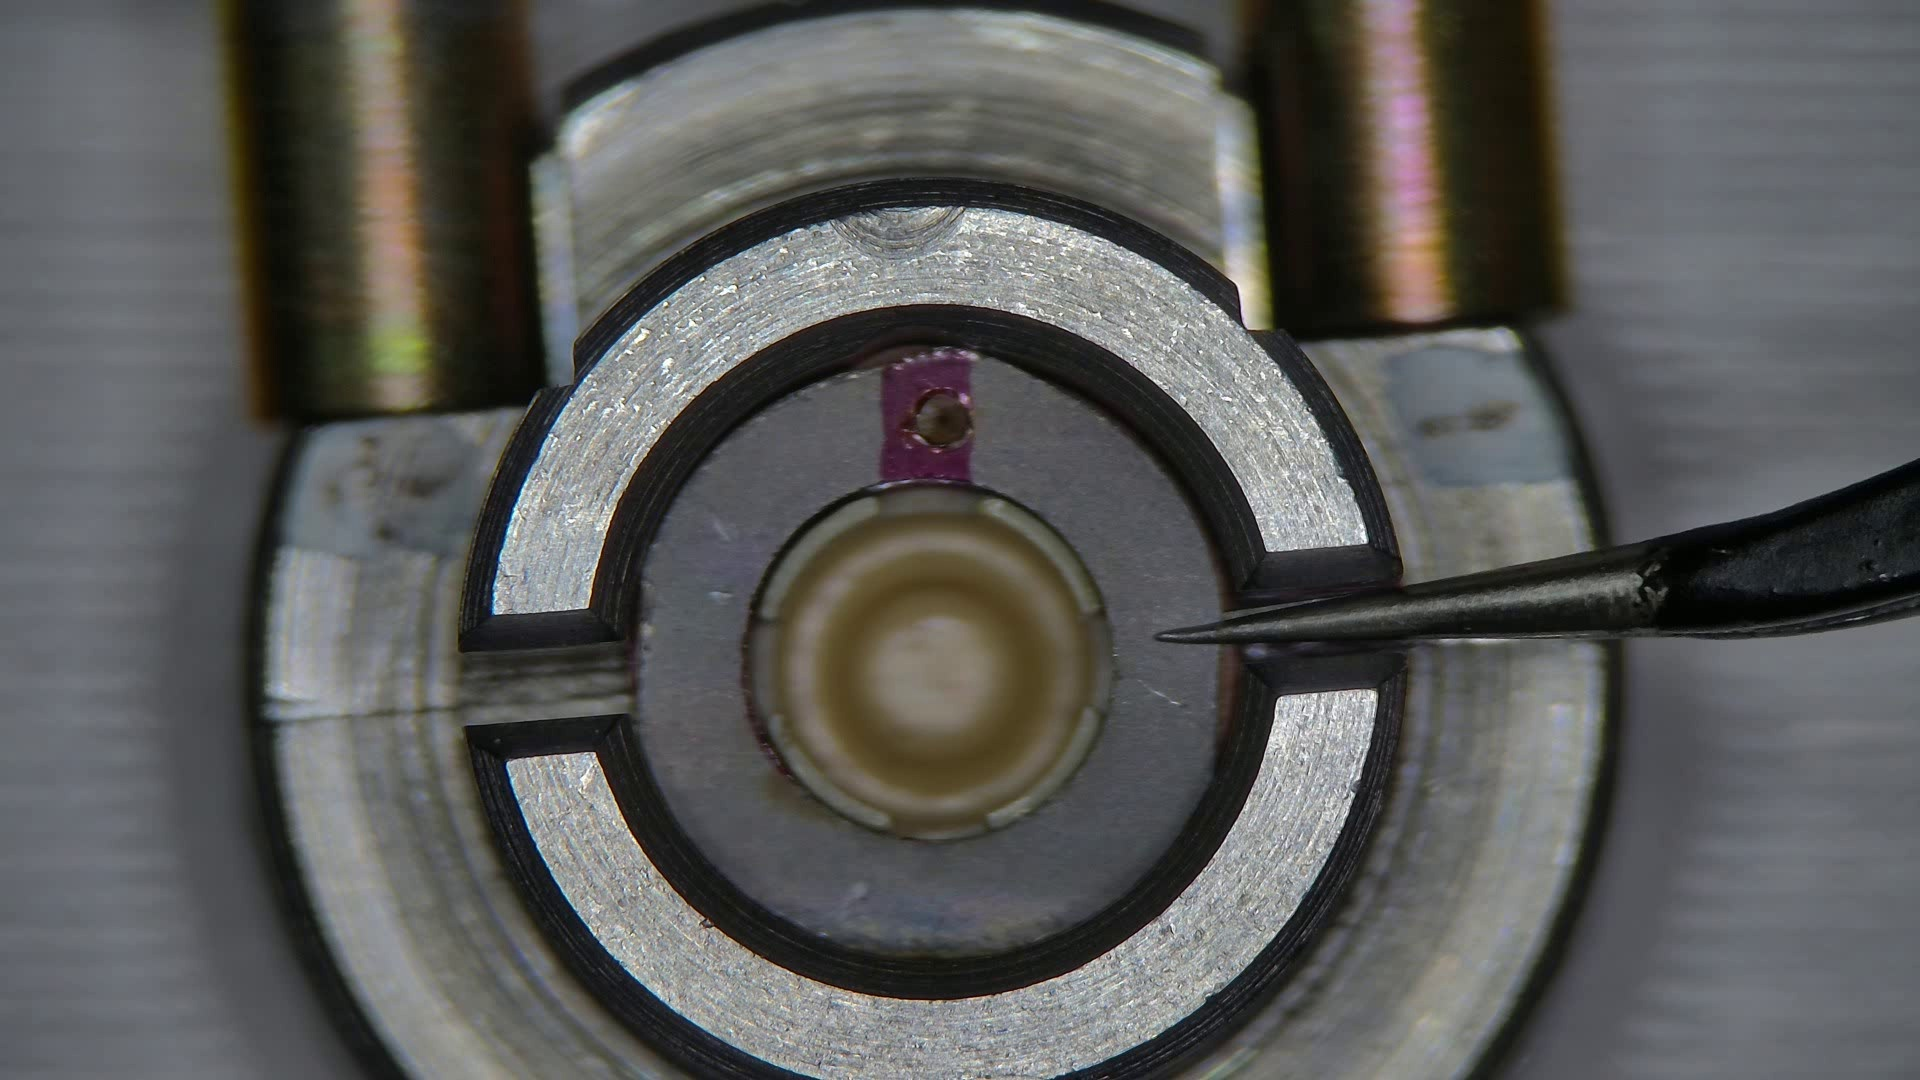YellowOring: (634, 351, 1225, 957)
